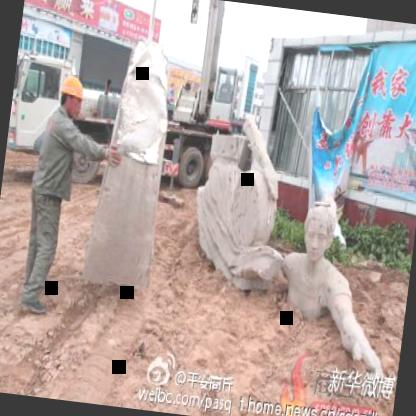helmet: (52, 67, 90, 122)
